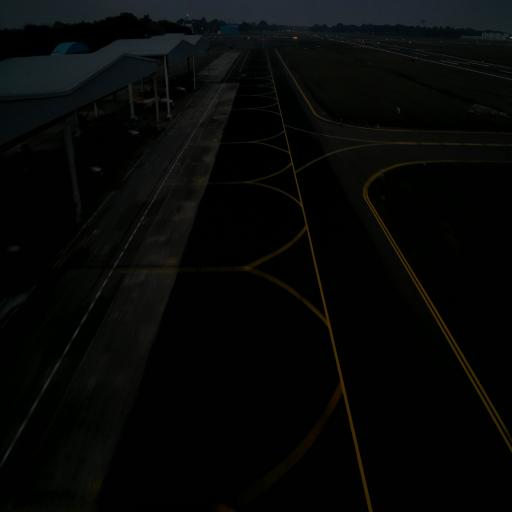on: (422, 160, 427, 168), (376, 123, 380, 128)
